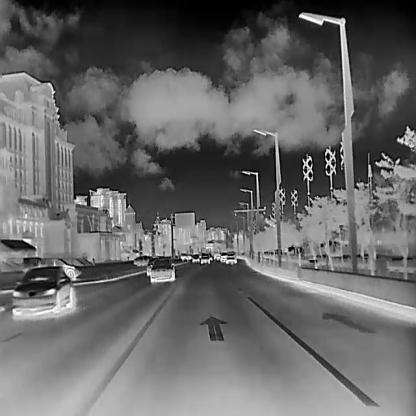car: (11, 265, 72, 315), (36, 257, 82, 281), (150, 255, 174, 283), (146, 255, 158, 275), (132, 254, 150, 265), (226, 249, 236, 264), (199, 252, 209, 264), (219, 250, 226, 262), (191, 252, 199, 262), (212, 250, 220, 260)
